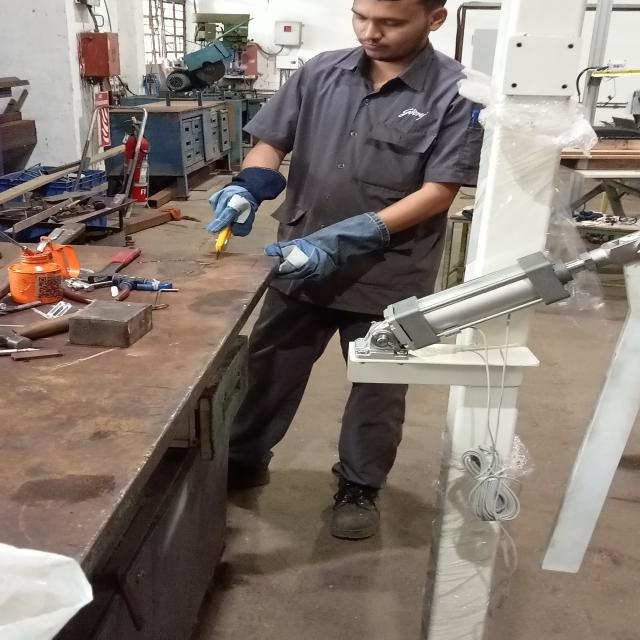Gloves-Detection: (271, 217, 383, 276), (208, 165, 266, 234)
